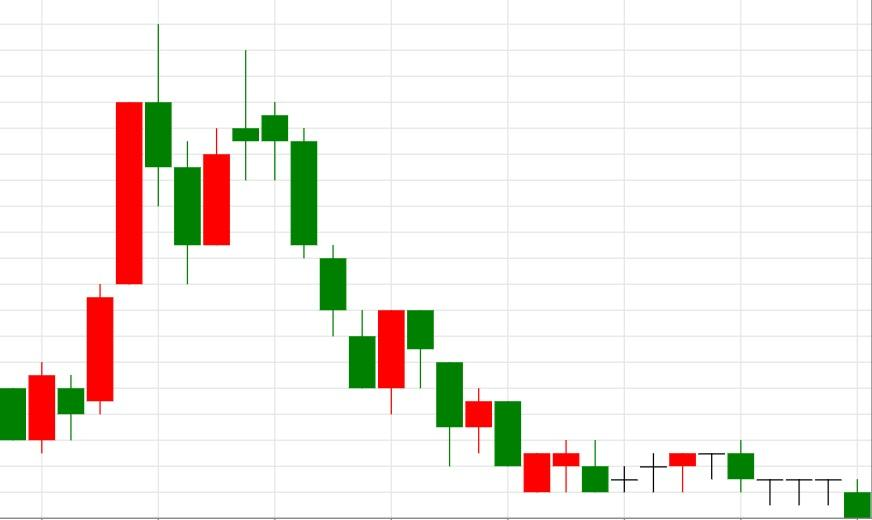three_black_crows_fall: (174, 50, 347, 337)
